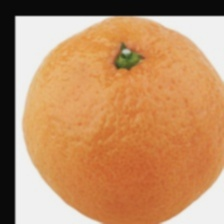orange: (5, 11, 176, 209)
